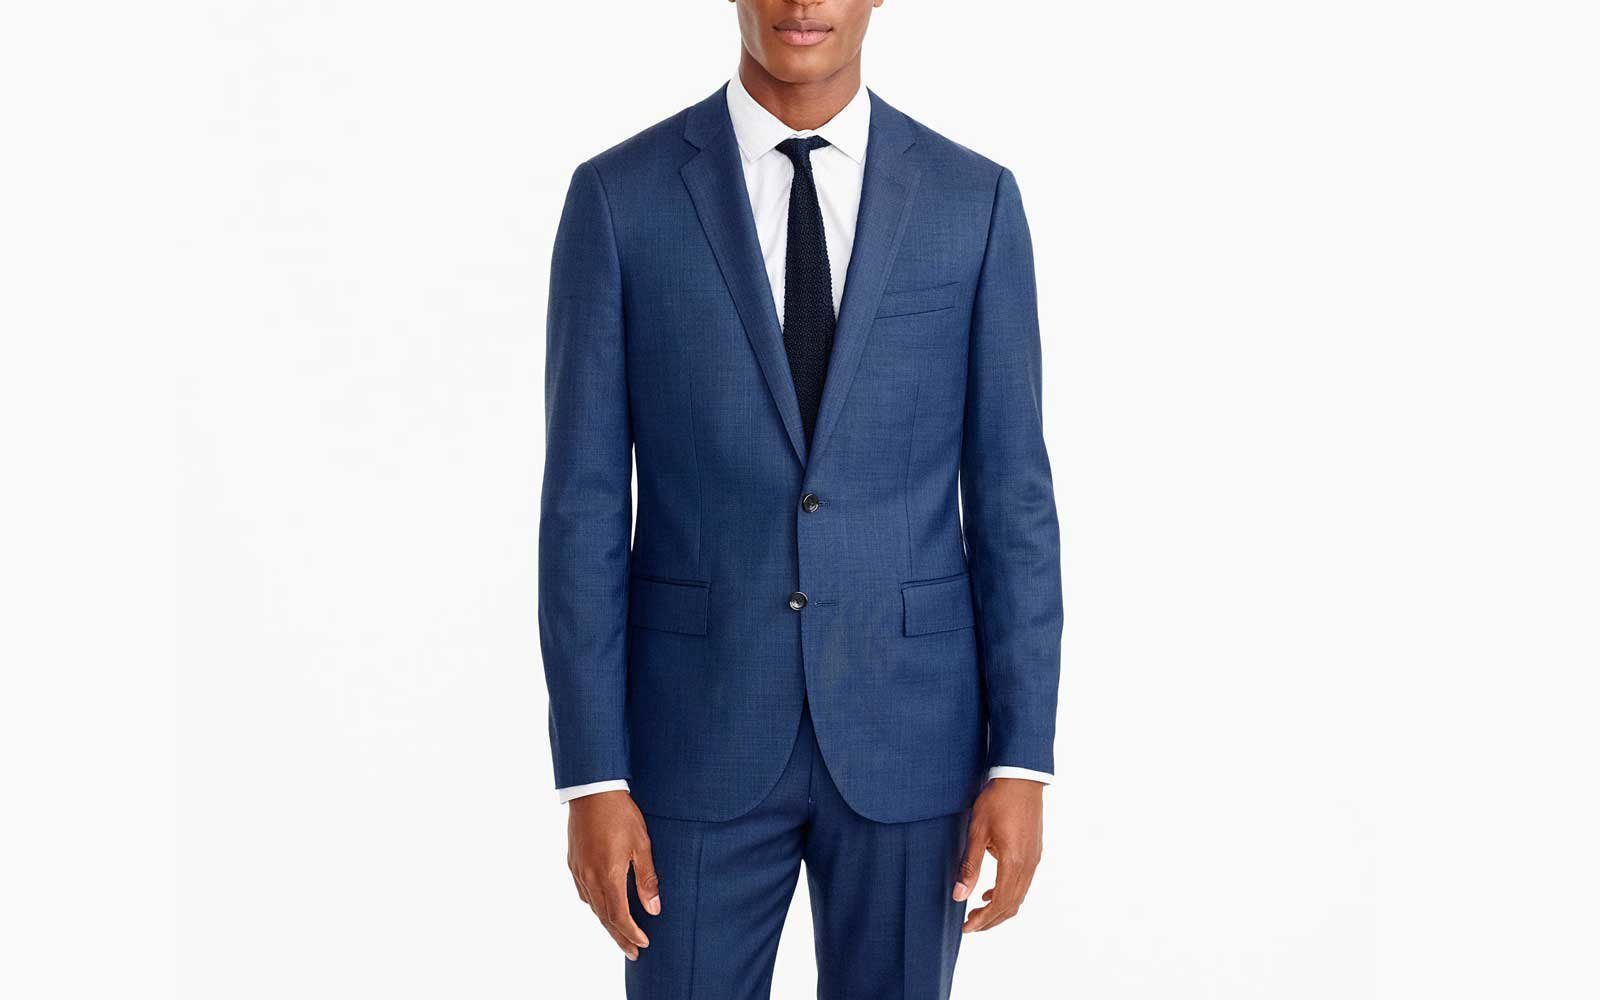F_M_suit jacket: (505, 86, 1070, 791)
F_dress pants: (600, 742, 988, 993)
F_tie: (767, 132, 846, 417)
